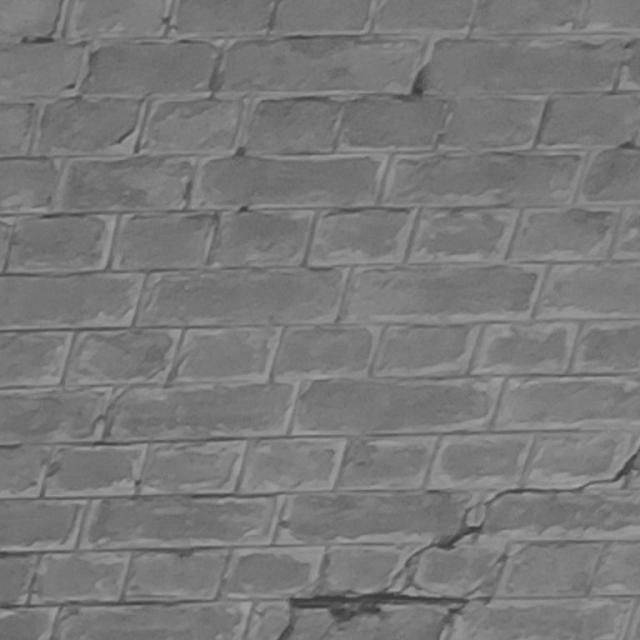crack: (277, 445, 638, 640)
